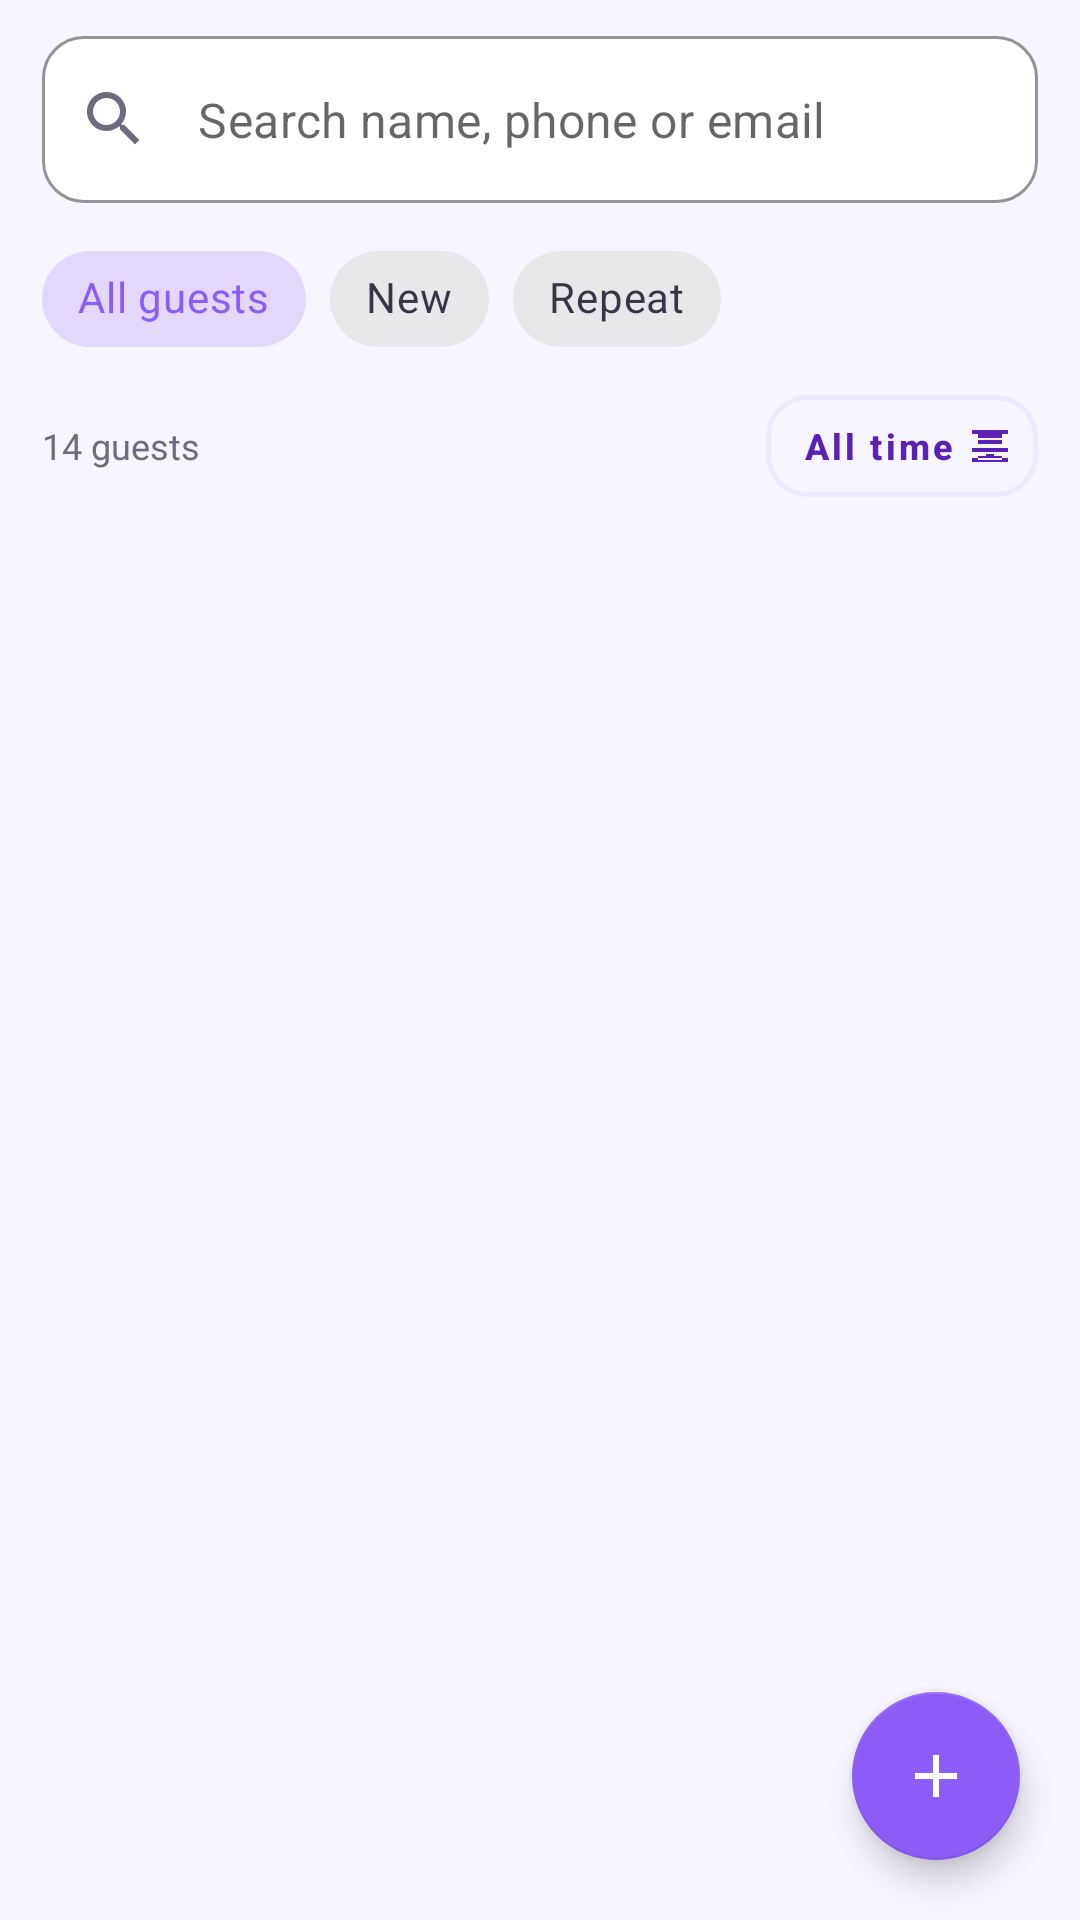

Locate icon controls on the screen. Image size 1080*1920, boxes as [x1=x1, y1=y1, x2=x2, y2=y2].
Add guest: [x1=852, y1=1692, x2=1020, y2=1860]
